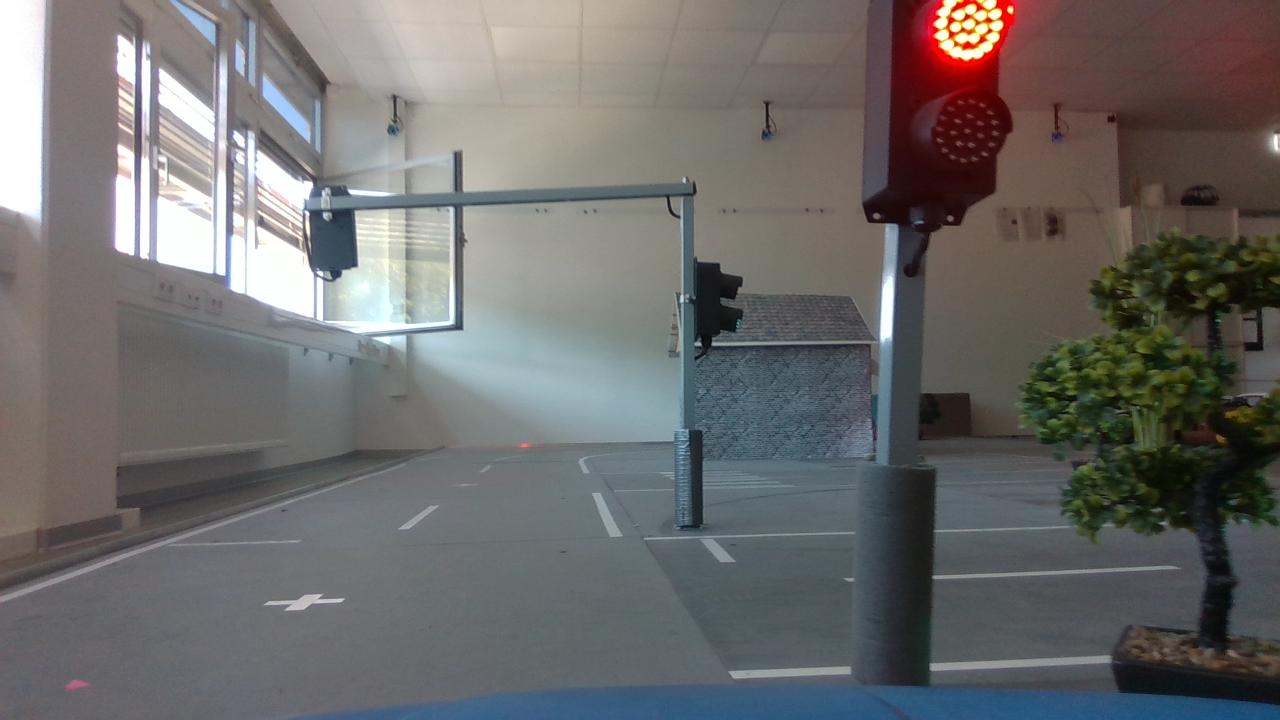traffic_light_red: (857, 1, 1027, 265)
